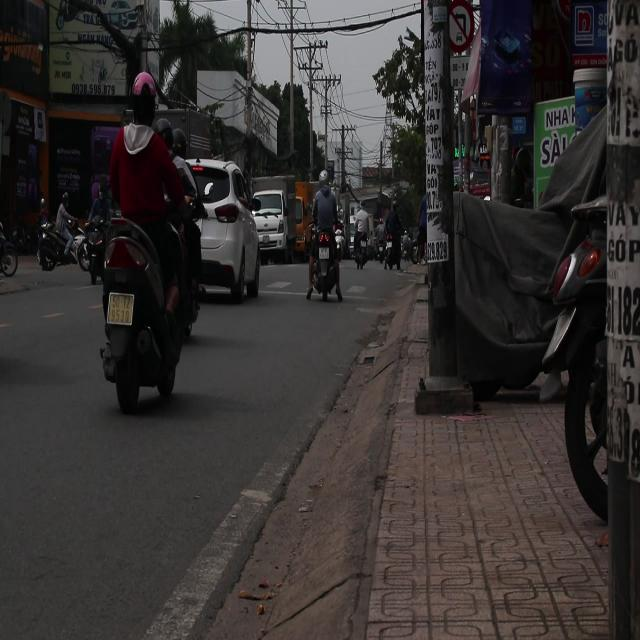car: (183, 156, 260, 304)
motorbike: (96, 204, 186, 414), (38, 203, 87, 272), (307, 219, 342, 306), (350, 213, 381, 286), (0, 218, 21, 279), (377, 227, 402, 276)
truck: (250, 174, 300, 264)
